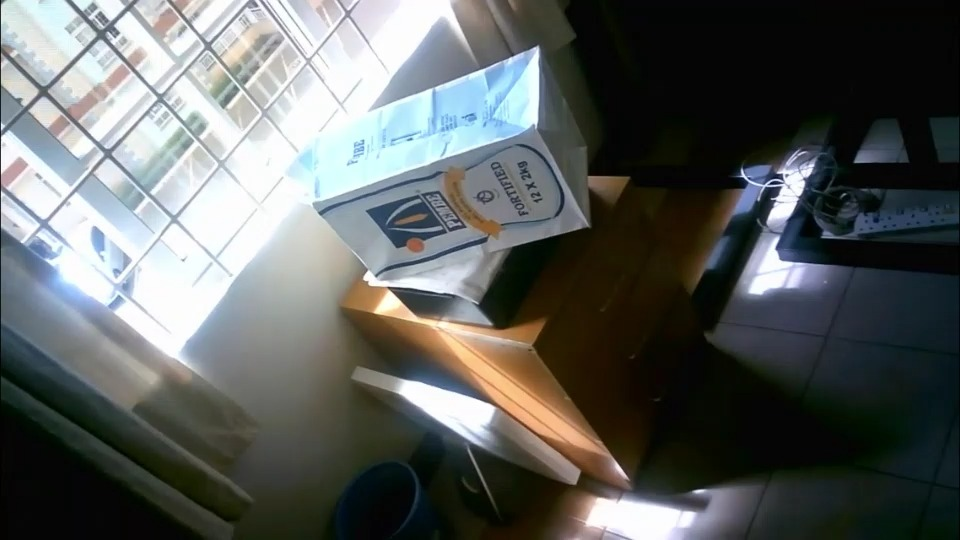wheat_flour_blue_label: (312, 47, 594, 275)
